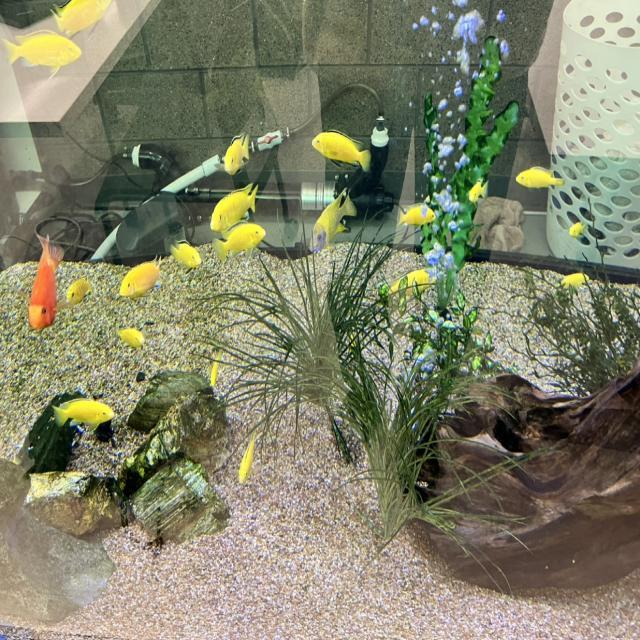YellowCichlid: (300, 121, 385, 183), (42, 393, 121, 438), (300, 197, 358, 250), (201, 191, 269, 226), (512, 156, 566, 194), (224, 227, 269, 269), (108, 319, 154, 359), (161, 230, 204, 272), (215, 128, 250, 176), (232, 428, 258, 486), (392, 201, 441, 231), (62, 276, 96, 312), (388, 268, 432, 292), (557, 264, 587, 296), (124, 262, 150, 296), (202, 350, 223, 388), (468, 176, 489, 206), (568, 217, 587, 239)
